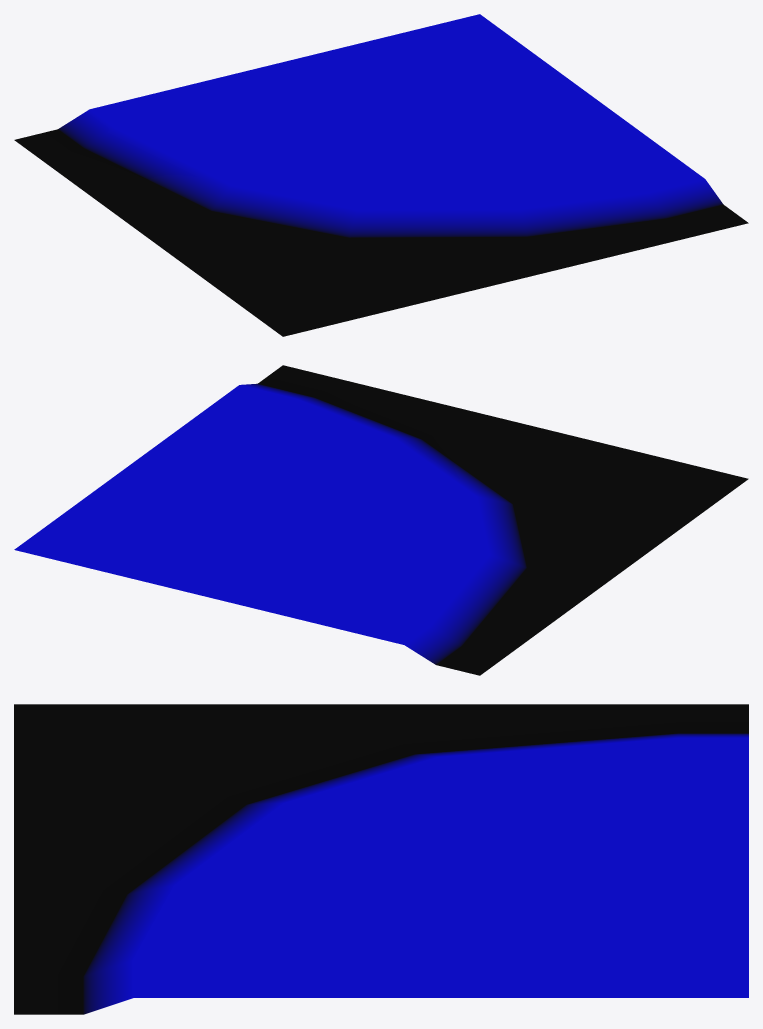
File: SM_Ground_8m_PlantationCorner.FBX
3 renders of one model, top to bottom at view 1: azimuth 30°, elevation 25°; view 2: azimuth 150°, elevation 25°; view 3: azimuth 270°, elevation 25°, orthographic. The views are drawn at different scales.
Parts seen in each view (by area): view 1: SM_Ground_8m_PlantationCorner; view 2: SM_Ground_8m_PlantationCorner; view 3: SM_Ground_8m_PlantationCorner.
Part boxes in pixels (x1,y1,x2,y2): SM_Ground_8m_PlantationCorner: [14, 14, 748, 336]; SM_Ground_8m_PlantationCorner: [14, 365, 748, 675]; SM_Ground_8m_PlantationCorner: [14, 704, 748, 1014].
Size of the model in its own units: 800 by 800 by 20.
